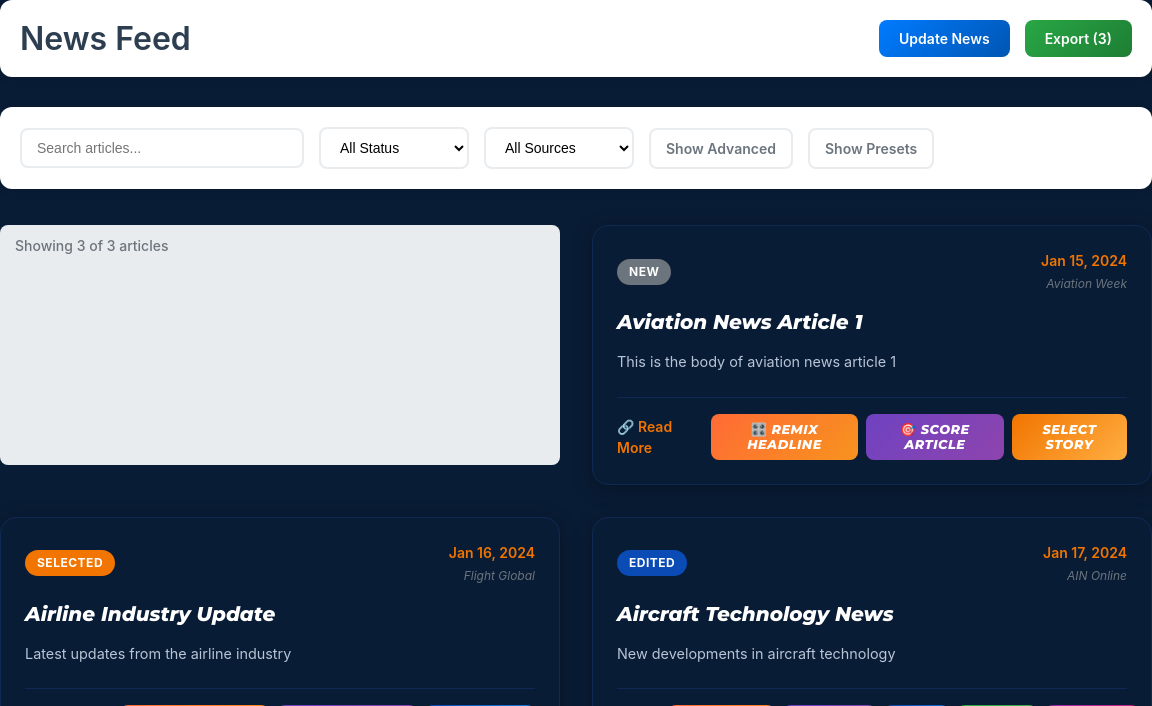
Test: Feed Component › Search Functionality › searches in title, body, and source
Check: the heading "Aviation News Article 1" is shown, box 617,310 -> 862,334
Type "technology" into the field with placeholder "Search articles..." at {"x": 162, "y": 148}, box 20,128 -> 304,168
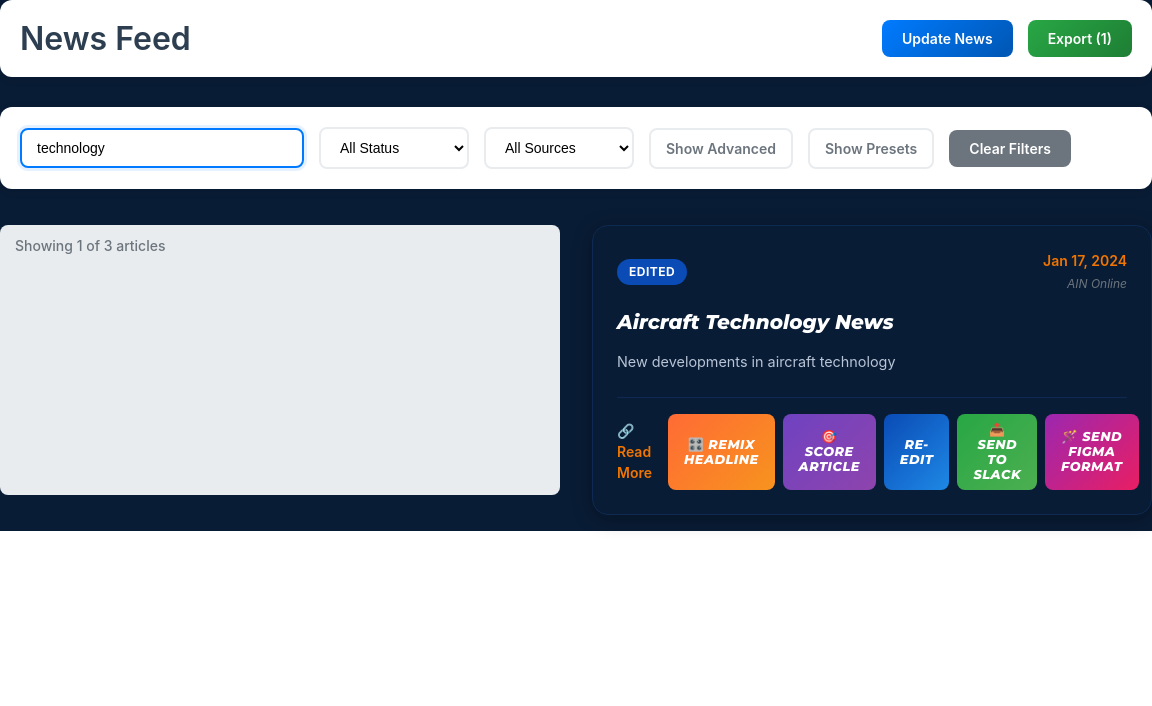
Check: the heading "Aircraft Technology News" is shown, box 617,310 -> 894,334
Check: the heading "Aviation News Article 1" is gone
Check: the heading "Airline Industry Update" is gone
